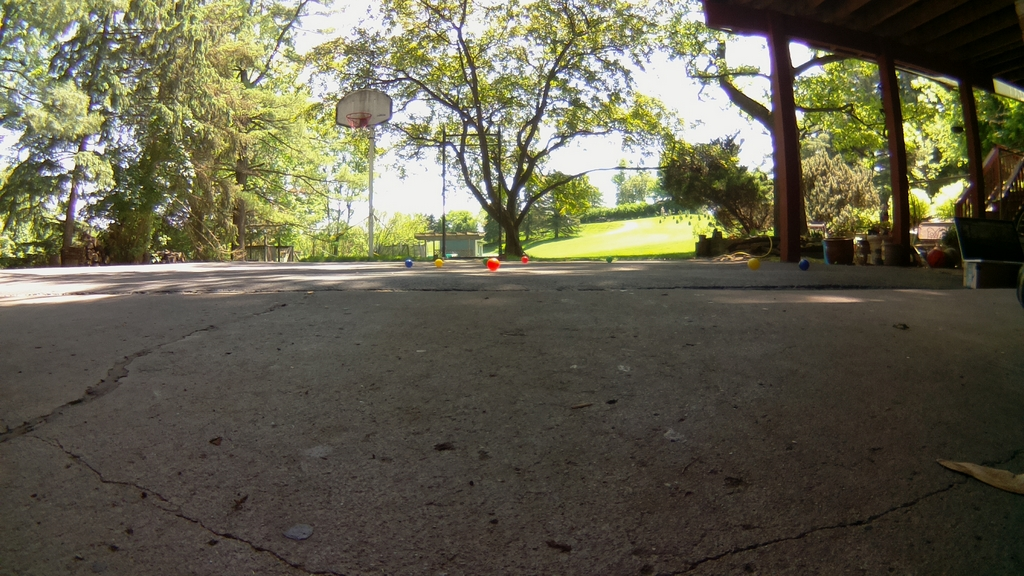ball: (607, 255, 612, 260)
